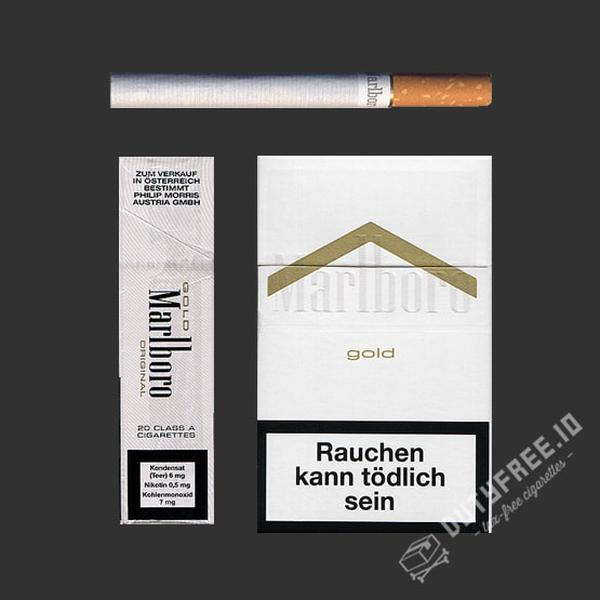marlboro_gold: (257, 156, 488, 534)
